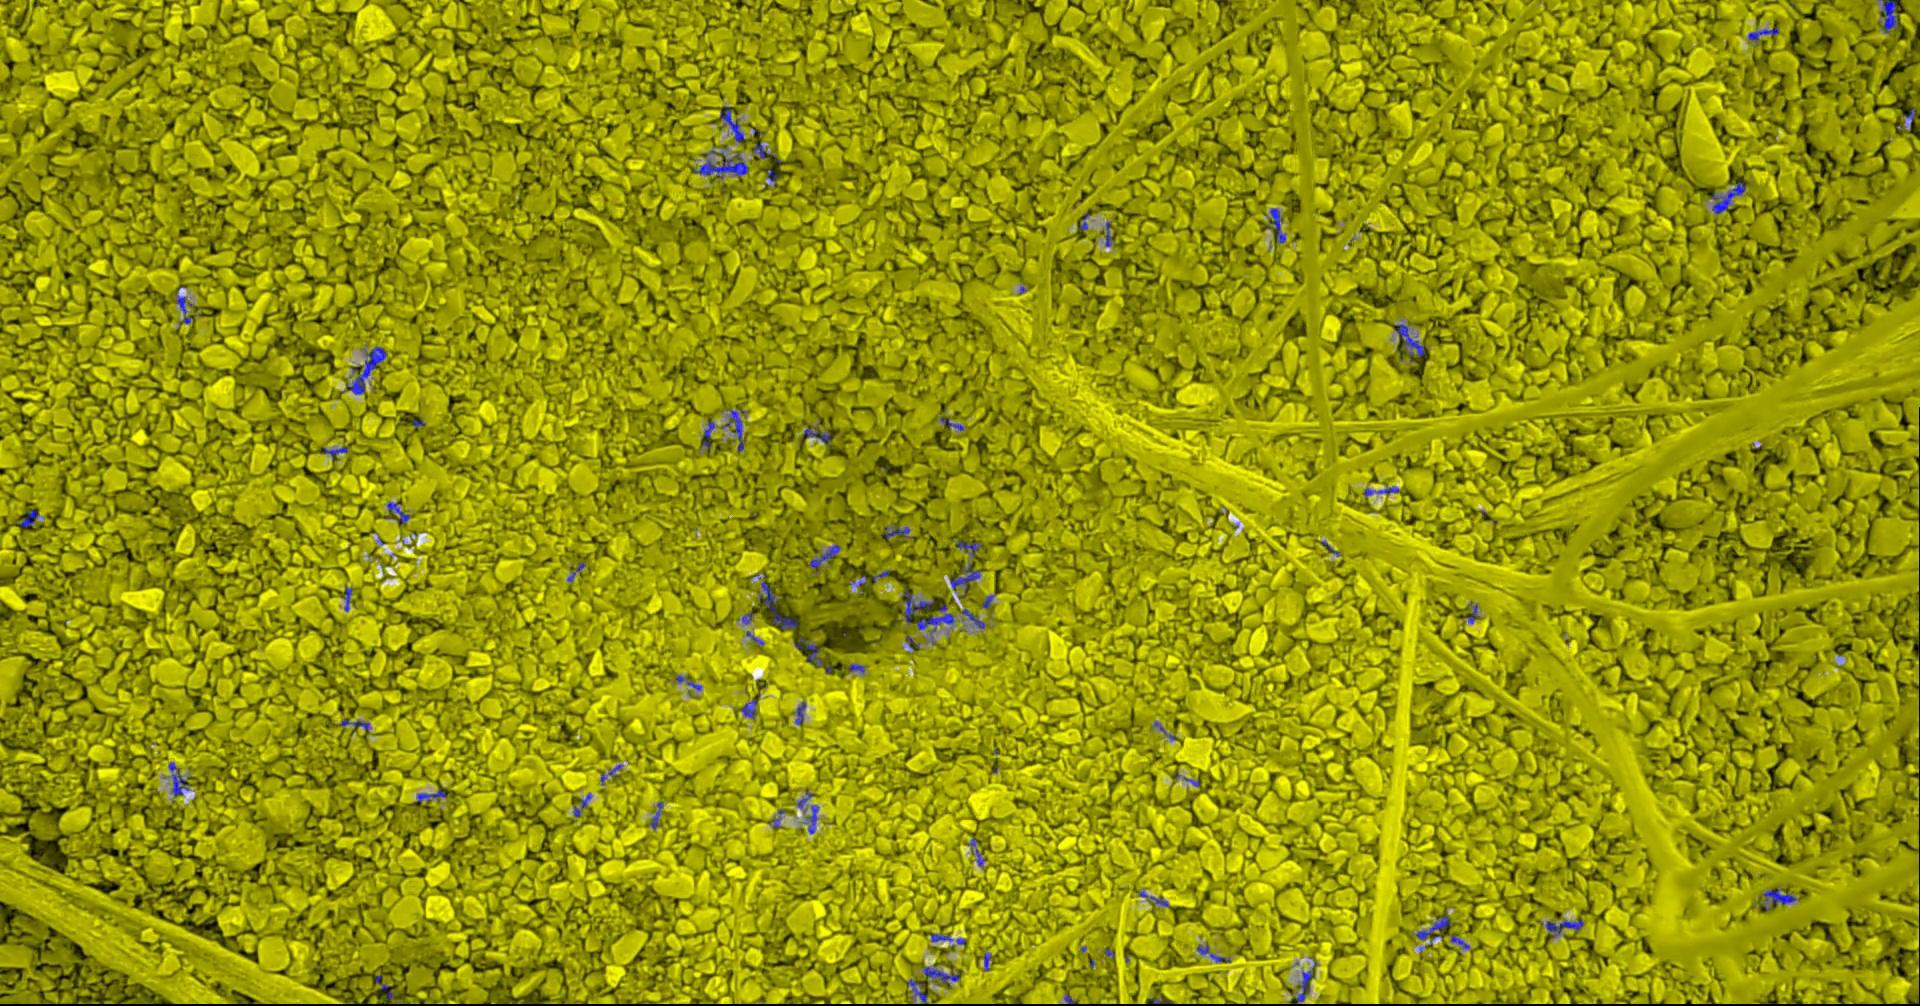ant: (753, 574, 797, 629), (345, 345, 386, 394), (693, 145, 748, 178), (1710, 180, 1745, 213), (916, 605, 954, 633), (902, 589, 933, 622), (721, 408, 745, 451), (1415, 915, 1450, 944), (1396, 324, 1423, 361), (720, 105, 745, 144), (949, 563, 979, 594), (808, 544, 839, 572), (794, 636, 822, 667), (923, 965, 959, 988), (1295, 962, 1316, 1001), (1540, 920, 1583, 937), (168, 762, 189, 796), (1879, 0, 1898, 32), (1763, 887, 1796, 904), (905, 978, 927, 1005), (803, 426, 830, 446), (1269, 208, 1285, 243), (386, 500, 409, 523), (1747, 25, 1778, 41), (417, 786, 447, 801), (969, 837, 984, 868), (1138, 890, 1168, 906), (961, 608, 984, 627), (956, 540, 982, 556), (177, 296, 190, 325), (700, 419, 714, 448), (883, 523, 909, 539), (573, 793, 590, 815), (930, 934, 965, 945), (375, 976, 392, 998), (649, 801, 663, 829), (340, 718, 370, 730), (1363, 486, 1398, 497), (676, 674, 701, 688), (19, 509, 38, 527), (321, 446, 347, 459), (940, 417, 963, 431), (806, 805, 818, 833), (740, 699, 757, 718), (1450, 934, 1469, 949), (752, 142, 770, 158), (794, 701, 805, 724), (1467, 601, 1477, 622), (342, 587, 350, 611), (1105, 222, 1112, 246)
